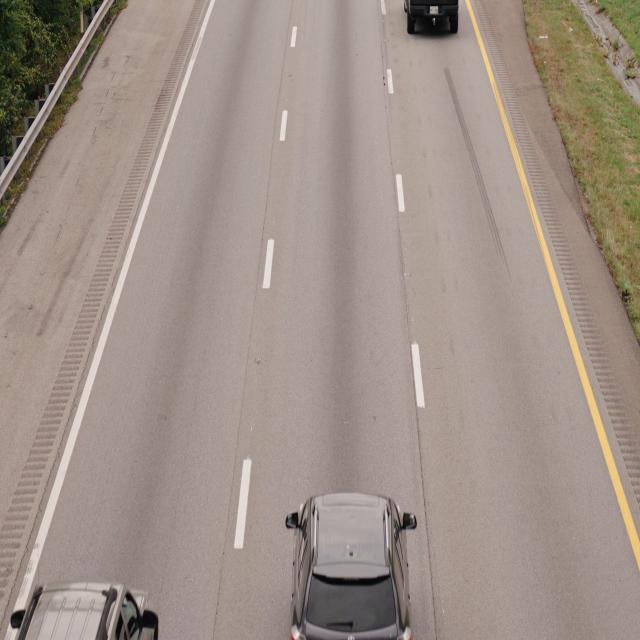Car: (282, 492, 419, 640)
